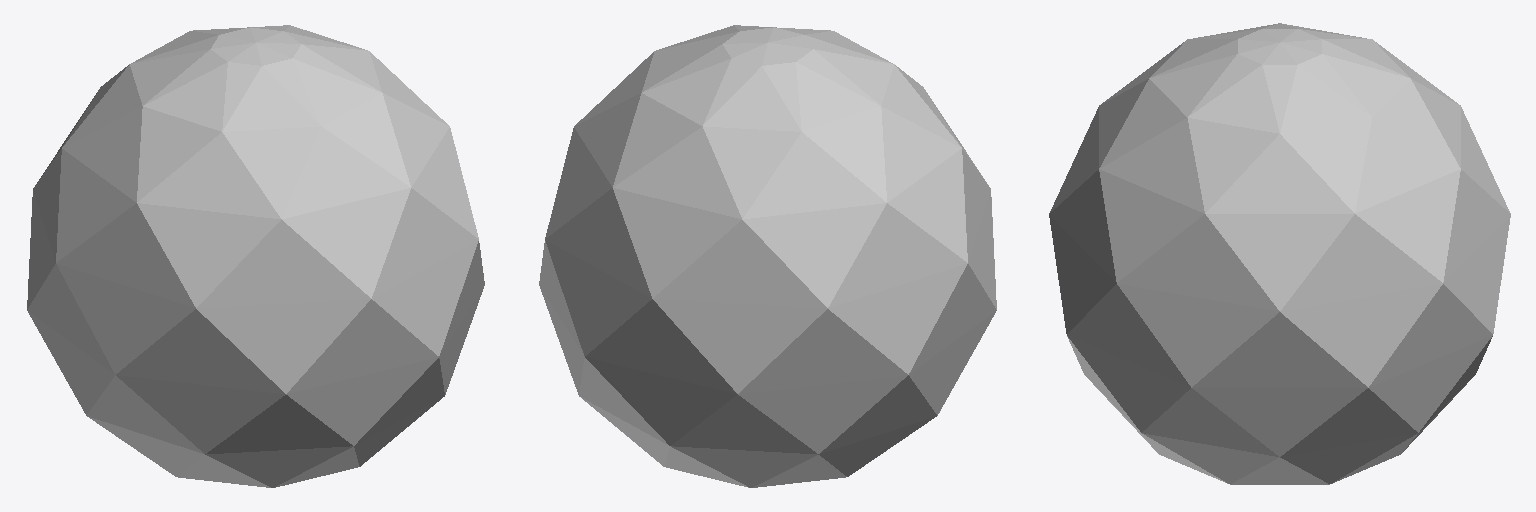
File: lessDecimatedSphere.obj
The picture shows the model from 3 angles: view 1: azimuth 30°, elevation 25°; view 2: azimuth 150°, elevation 25°; view 3: azimuth 270°, elevation 25°; orthographic projection.
Size of the model in its own units: 1.96 by 2 by 1.96.